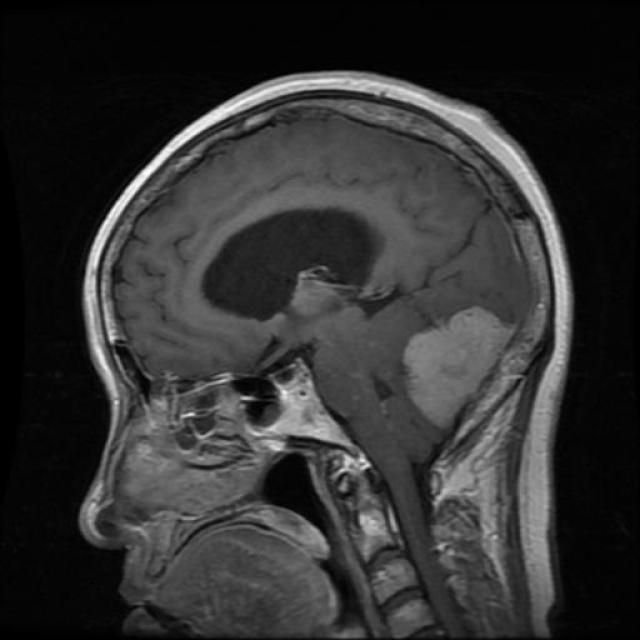meningioma: (402, 310, 514, 429)
